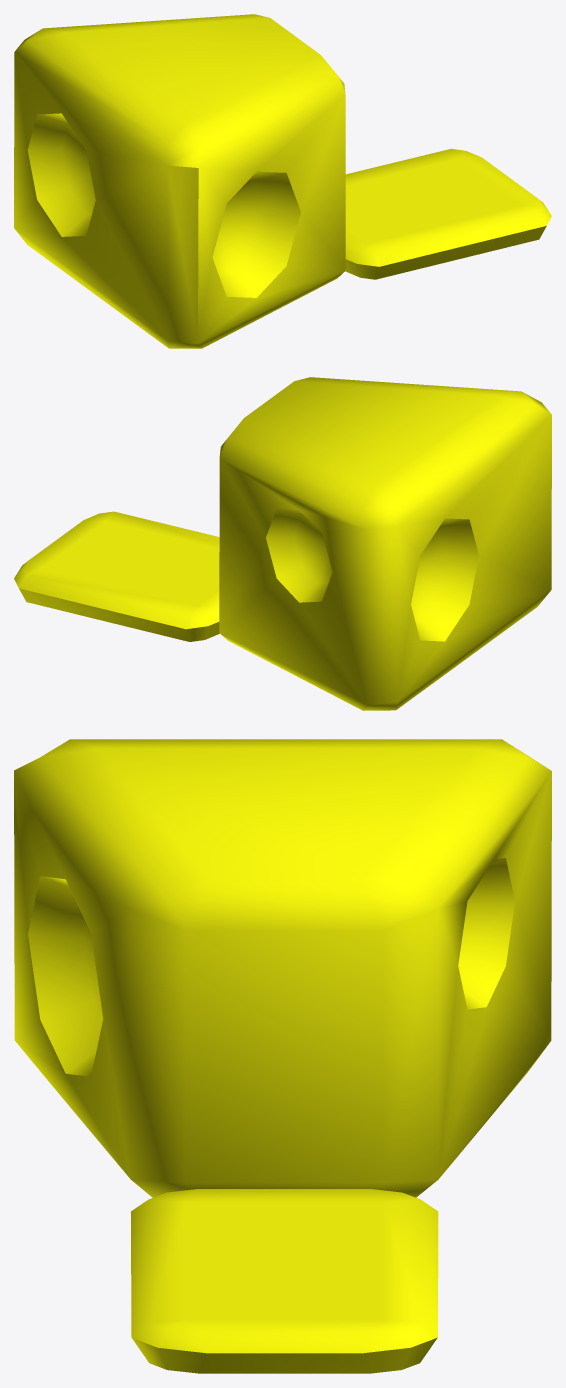
File: food_ingredient_cheese_chopped.gltf
3 views of the same model, one above another, from view 1: azimuth 30°, elevation 25°; view 2: azimuth 150°, elevation 25°; view 3: azimuth 270°, elevation 25° (orthographic). The views are drawn at different scales.
Parts seen in each view (by area): view 1: food_ingredient_cheese_chopped; view 2: food_ingredient_cheese_chopped; view 3: food_ingredient_cheese_chopped.
Part boxes in pixels (box(x1,y1,x2,y2)): food_ingredient_cheese_chopped: box(14, 14, 551, 348); food_ingredient_cheese_chopped: box(14, 377, 551, 710); food_ingredient_cheese_chopped: box(14, 739, 551, 1373).
Size of the model in its own units: 1.02 by 0.5 by 0.722.
Materials: 1 (1 with a texture image).
